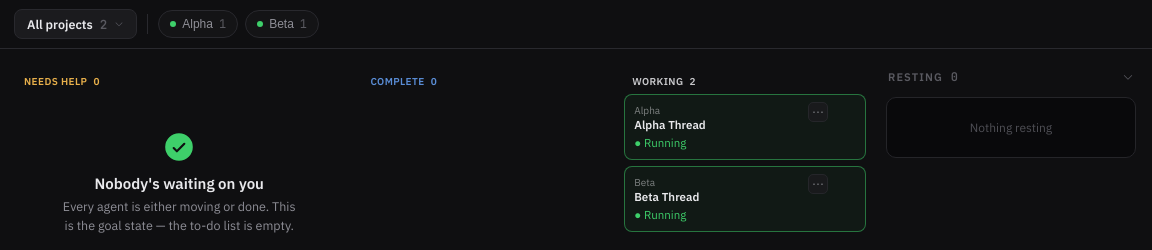
Test case: a filter chip narrows the board to one project; All projects restores it
Check: the text "Alpha Thread" is shown, box [634,117,706,132]
Check: the text "Beta Thread" is shown, box [634,189,699,204]
Click the button "Alpha 1".
click(198, 24)  # box [158,10,238,38]
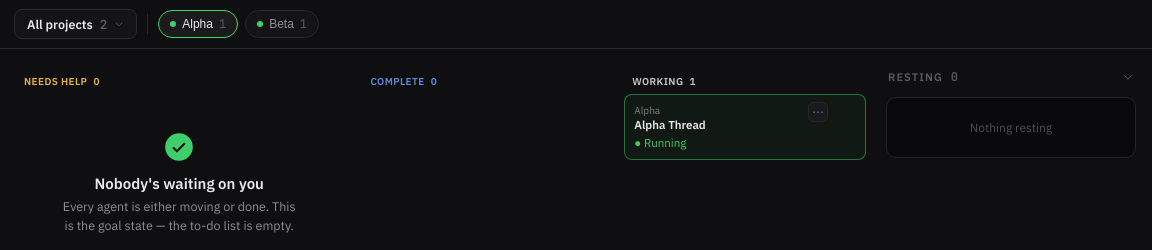
Check: the text "Alpha Thread" is shown, box [634,117,706,132]
Check: the text "Beta Thread" is gone
Click the button "All projects 2".
click(76, 24)  # box [14,9,137,39]
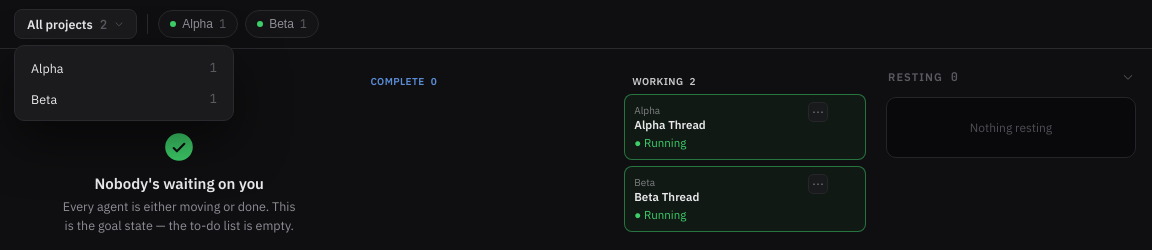
Check: the text "Alpha Thread" is shown, box [634,117,706,132]
Check: the text "Beta Thread" is shown, box [634,189,699,204]
